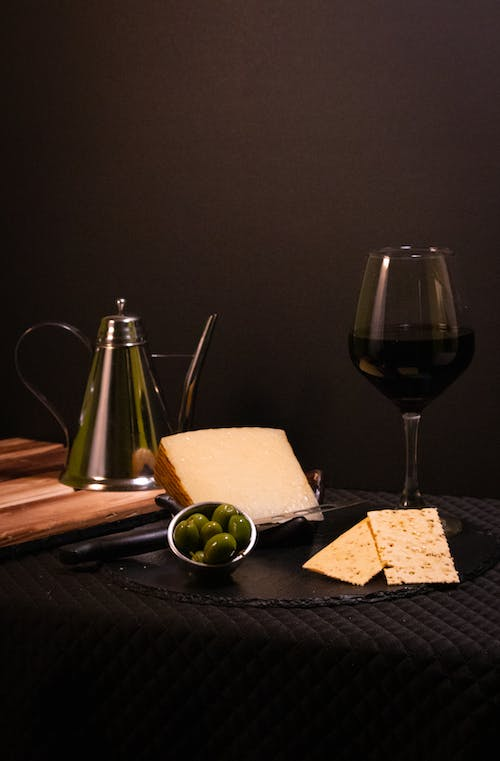alcohol: (346, 241, 472, 541)
knife: (56, 494, 371, 565)
